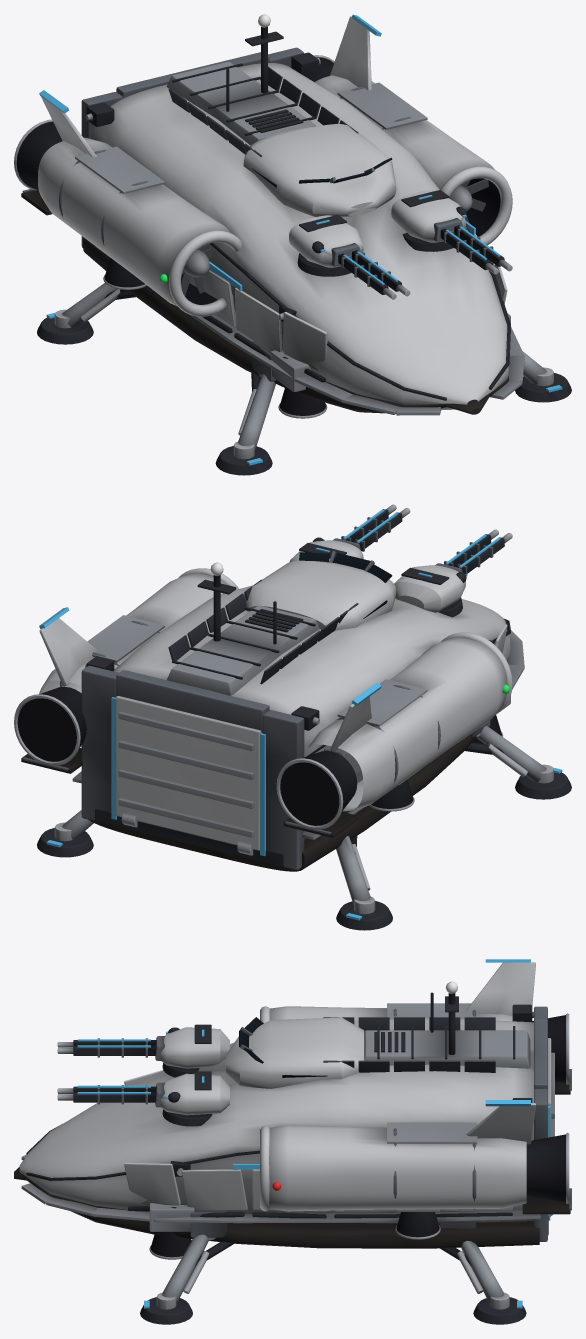
Rendered from lander.glb.
3 renders of one model, top to bottom at view 1: azimuth 30°, elevation 25°; view 2: azimuth 150°, elevation 25°; view 3: azimuth 270°, elevation 25°, orthographic. The views are drawn at different scales.
Parts seen in each view (by area): view 1: body, gear_1, gear_3, turret_0, turret_1, gun_0, gun_1, gear_0, fan_1, fan_0; view 2: body, ramp, gear_1, gear_3, turret_1, gear_2, gun_0, gun_1, turret_0, flap_1, flap_0; view 3: body, gear_0, gear_2, turret_0, turret_1, gun_0, gun_1, flap_0, ramp.
Part boxes in pixels (bbox=[...]): body: bbox=[14, 14, 524, 418]; gear_1: bbox=[215, 373, 275, 475]; gear_3: bbox=[37, 283, 135, 344]; turret_0: bbox=[391, 190, 466, 242]; turret_1: bbox=[289, 215, 363, 267]; gun_0: bbox=[433, 218, 512, 274]; gun_1: bbox=[331, 243, 410, 299]; gear_0: bbox=[515, 351, 571, 402]; fan_1: bbox=[181, 244, 211, 295]; fan_0: bbox=[449, 179, 488, 223]; body: bbox=[14, 551, 524, 871]; ramp: bbox=[115, 696, 261, 855]; gear_1: bbox=[465, 726, 571, 799]; gear_3: bbox=[336, 836, 392, 930]; turret_1: bbox=[394, 565, 466, 612]; gear_2: bbox=[37, 810, 93, 857]; gun_0: bbox=[333, 504, 410, 551]; gun_1: bbox=[435, 529, 512, 576]; turret_0: bbox=[289, 537, 363, 562]; flap_1: bbox=[283, 812, 358, 837]; flap_0: bbox=[21, 747, 82, 773]; body: bbox=[14, 959, 569, 1259]; gear_0: bbox=[140, 1234, 233, 1324]; gear_2: bbox=[440, 1241, 526, 1324]; turret_0: bbox=[160, 1071, 229, 1115]; turret_1: bbox=[160, 1024, 229, 1068]; gun_0: bbox=[57, 1082, 164, 1107]; gun_1: bbox=[57, 1036, 164, 1060]; flap_0: bbox=[522, 1188, 571, 1214]; ramp: bbox=[548, 1038, 554, 1216].
Size of the model in its own units: 13.32 by 10.71 by 19.75.
